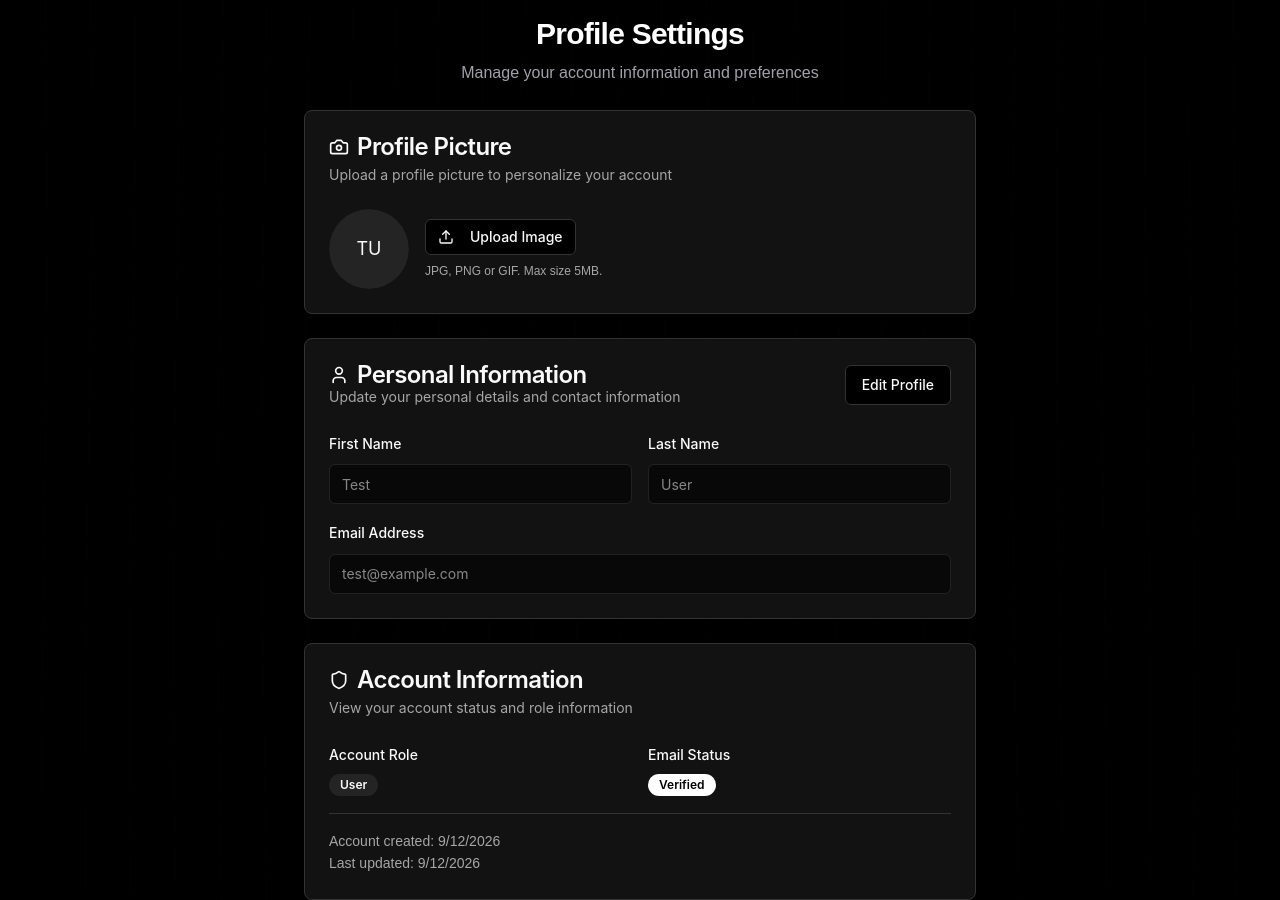
UserProfile Page › should enable editing mode when edit button is clicked
Click the button "Edit Profile" at (898, 385), box [845,365,951,405]
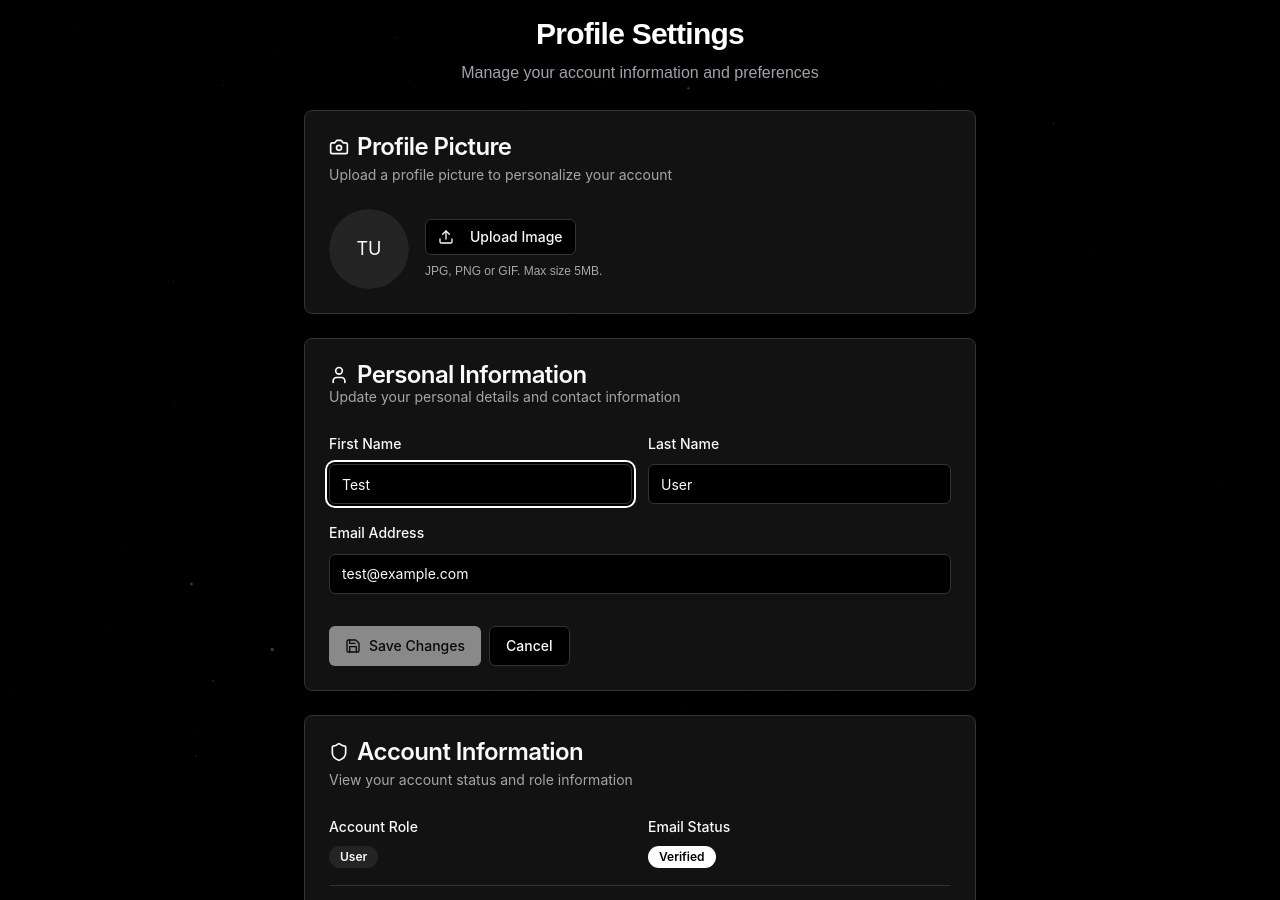
Expected: the button "Save Changes" is shown, [329,626,481,666]
Expected: the button "Cancel" is shown, [489,626,570,666]
Expected: the field showing "Test" is enabled, [329,464,632,504]
